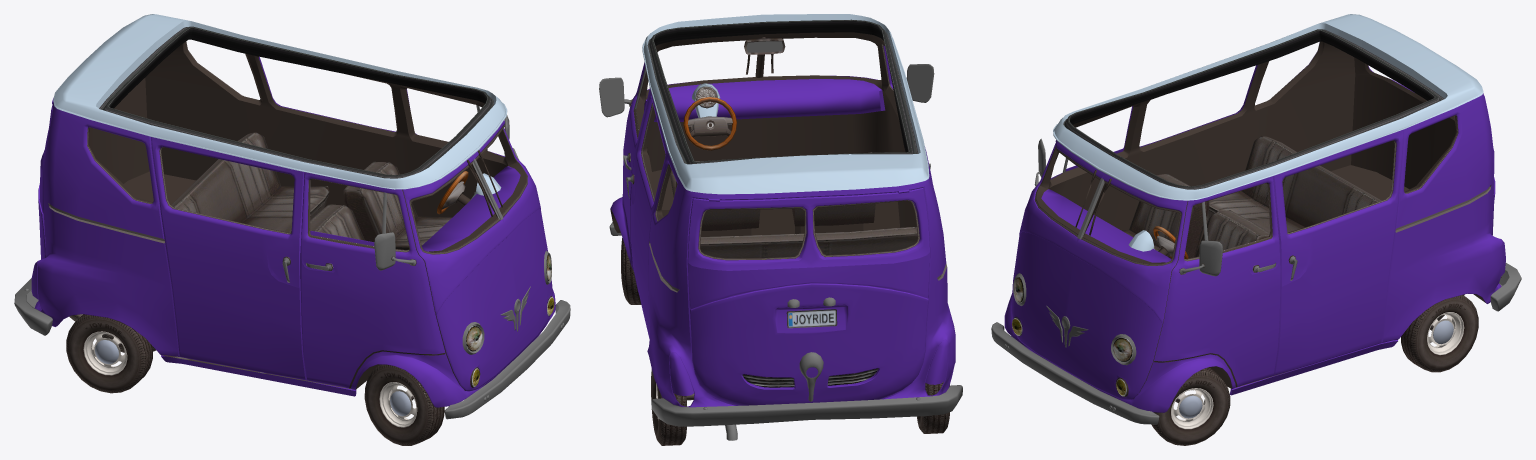
Rendered from Van.glb.
3 views of the same model, side by side, from view 1: azimuth 30°, elevation 25°; view 2: azimuth 150°, elevation 25°; view 3: azimuth 270°, elevation 25° (orthographic). The views are drawn at different scales.
Visible parts, largest first — view 1: node_id129, node_id131, node_id133, node_id51, node_id53, node_id141, node_id46, node_id96, node_id82, node_id93, node_id79, node_id98 (+4 smaller); view 2: node_id129, node_id131, node_id48, node_id133, node_id51, node_id53, node_id141, node_id137, node_id123, node_id118, node_id31, node_id111 (+7 smaller); view 3: node_id129, node_id131, node_id133, node_id51, node_id53, node_id141, node_id46, node_id154, node_id89, node_id86, node_id158, node_id156 (+5 smaller).
Part boxes in pixels (bbox=[...]): node_id129: bbox=[31, 14, 555, 407]; node_id131: bbox=[88, 42, 551, 390]; node_id133: bbox=[99, 26, 493, 178]; node_id51: bbox=[171, 132, 329, 232]; node_id53: bbox=[310, 161, 452, 249]; node_id141: bbox=[48, 41, 527, 254]; node_id46: bbox=[444, 300, 570, 419]; node_id96: bbox=[69, 317, 141, 390]; node_id82: bbox=[366, 367, 429, 442]; node_id93: bbox=[83, 331, 127, 375]; node_id79: bbox=[379, 382, 428, 427]; node_id98: bbox=[66, 314, 152, 393]; node_id129: bbox=[610, 14, 955, 407]; node_id131: bbox=[610, 32, 916, 235]; node_id48: bbox=[651, 385, 962, 426]; node_id133: bbox=[647, 19, 918, 164]; node_id51: bbox=[700, 227, 917, 258]; node_id53: bbox=[670, 152, 875, 230]; node_id141: bbox=[633, 43, 946, 292]; node_id137: bbox=[742, 368, 878, 387]; node_id123: bbox=[599, 77, 631, 117]; node_id118: bbox=[906, 64, 934, 102]; node_id31: bbox=[786, 309, 837, 328]; node_id111: bbox=[687, 116, 732, 137]; node_id129: bbox=[1004, 14, 1505, 412]; node_id131: bbox=[1014, 41, 1485, 398]; node_id133: bbox=[1063, 29, 1444, 189]; node_id51: bbox=[1206, 136, 1381, 232]; node_id53: bbox=[1122, 173, 1269, 258]; node_id141: bbox=[1034, 41, 1491, 265]; node_id46: bbox=[991, 322, 1159, 424]; node_id154: bbox=[1414, 299, 1477, 369]; node_id89: bbox=[1157, 374, 1227, 443]; node_id86: bbox=[1171, 388, 1213, 429]; node_id158: bbox=[1418, 312, 1464, 355]; node_id156: bbox=[1401, 295, 1478, 372].
Bounding box in the file's own units: 0.8012 × 0.4885 × 0.8769.
56 materials, 56 textured.
